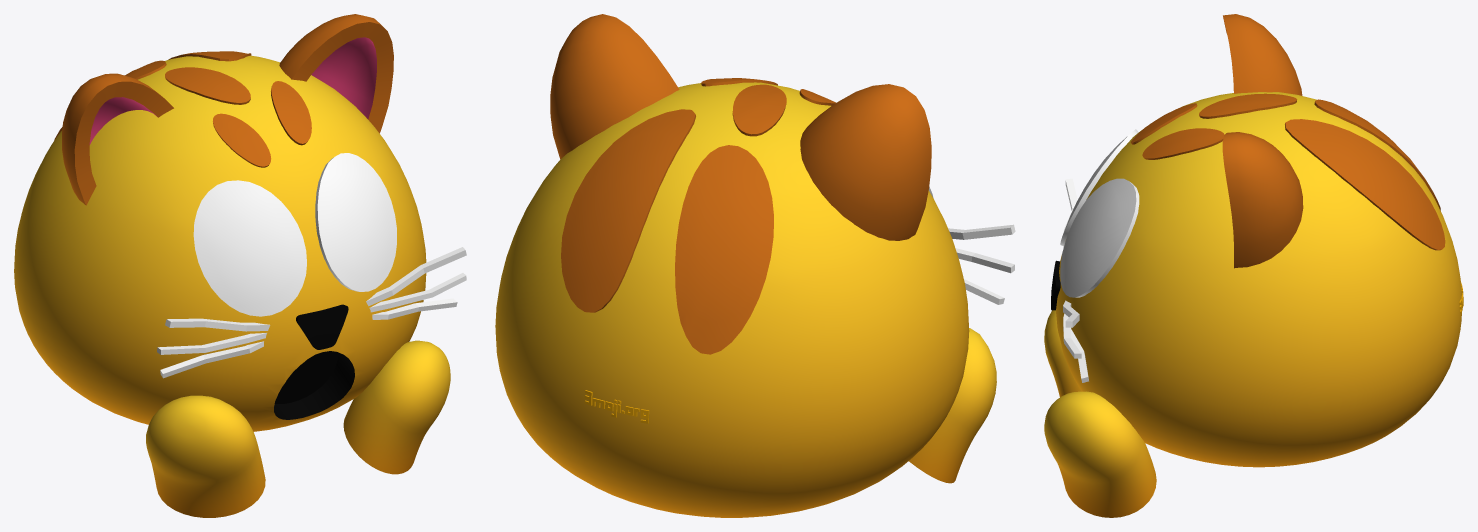
Rendered from weary_cat.gltf.
3 renders of one model, left to right at view 1: azimuth 30°, elevation 25°; view 2: azimuth 150°, elevation 25°; view 3: azimuth 270°, elevation 25°, orthographic. The views are drawn at different scales.
Visible parts, largest first — view 1: Weary Cat; view 2: Weary Cat; view 3: Weary Cat.
Part boxes in pixels (x1=…): Weary Cat: x1=14, y1=14, x2=466, y2=517; Weary Cat: x1=495, y1=14, x2=1015, y2=517; Weary Cat: x1=1044, y1=14, x2=1463, y2=517.
Size of the model in its own units: 1.69 by 1.77 by 1.74.
Materials: 1 (1 with a texture image).
